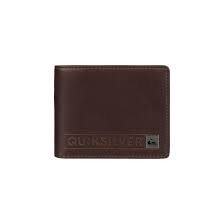monedero: (54, 64, 170, 161)
